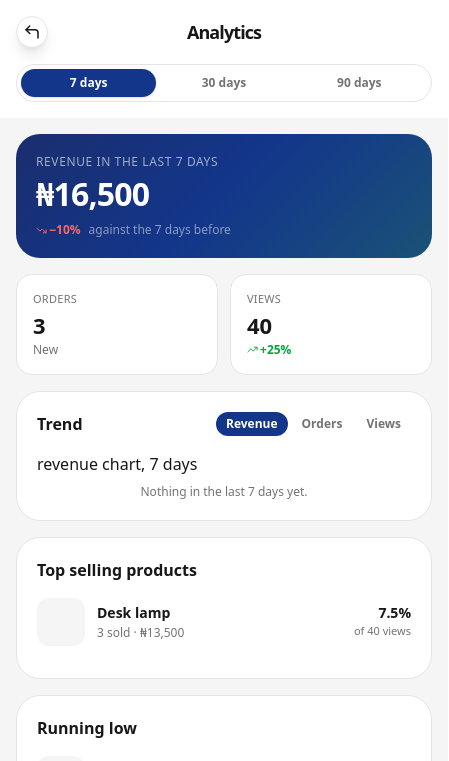
Test: Seller AnalyticsPage › switches the range and the metric
Expected: the text "revenue chart, 7 days" is shown, [37,452,197,474]
Step 1. Click the button "30 days" → (224, 83), box [156,69,292,97]
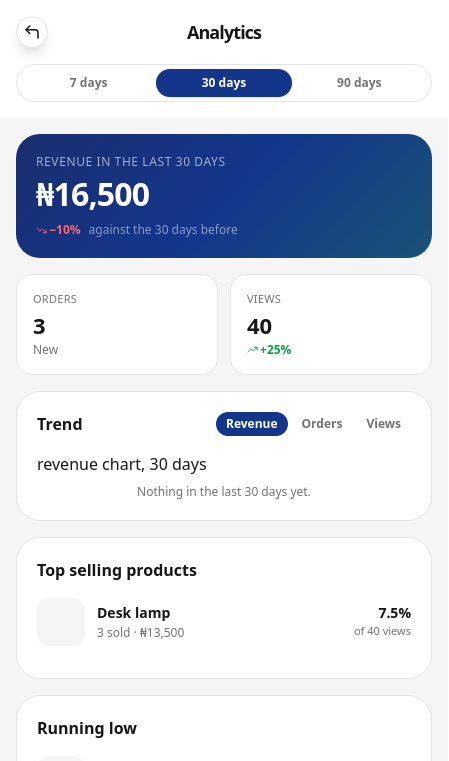
Result: the text "revenue chart, 30 days" is shown at [37,452,207,474]
Step 2. Click the tab "Orders" → (322, 424), box [292,412,352,436]
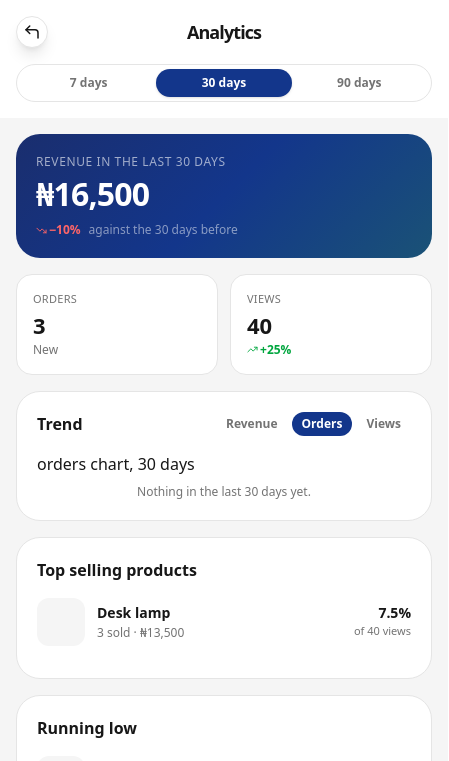
Result: the text "Nothing in the last 30 days yet." is shown at [137,482,311,500]
Result: the text "orders chart, 30 days" is shown at [37,452,195,474]
